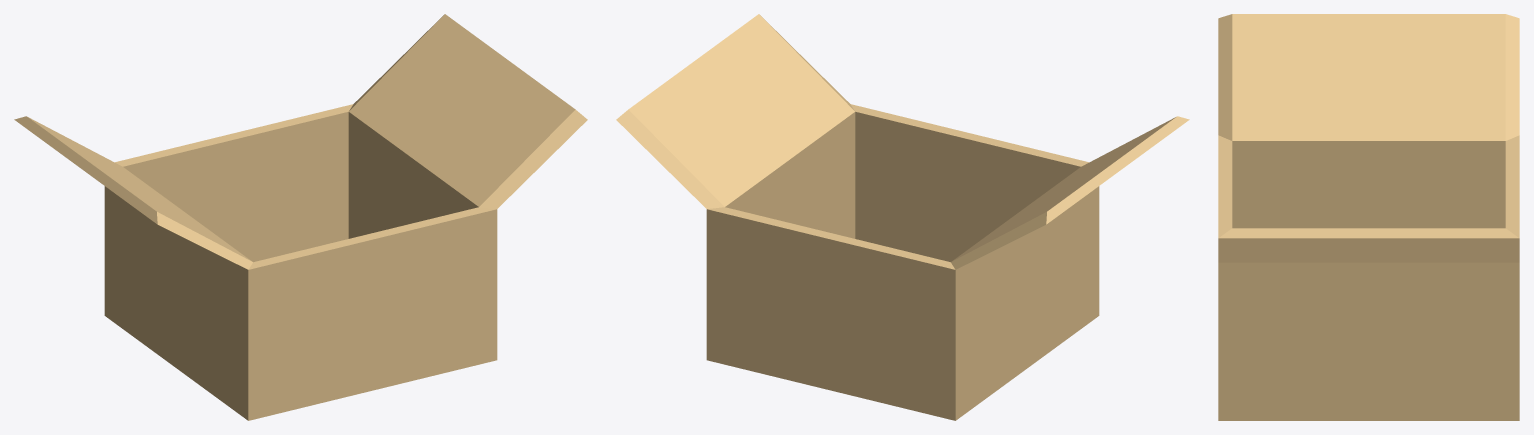
Rendered from BoxedFramedPhoto.fbx.
3 renders of one model, left to right at view 1: azimuth 30°, elevation 25°; view 2: azimuth 150°, elevation 25°; view 3: azimuth 270°, elevation 25°, orthographic. The views are drawn at different scales.
Parts seen in each view (by area): view 1: CardboardBox; view 2: CardboardBox; view 3: CardboardBox.
Boxes of the visible parts, x1=… form: CardboardBox: x1=14, y1=14, x2=587, y2=420; CardboardBox: x1=616, y1=14, x2=1189, y2=420; CardboardBox: x1=1218, y1=14, x2=1519, y2=420.
Bounding box in the file's own units: 68.97 × 34.51 × 39.9.
